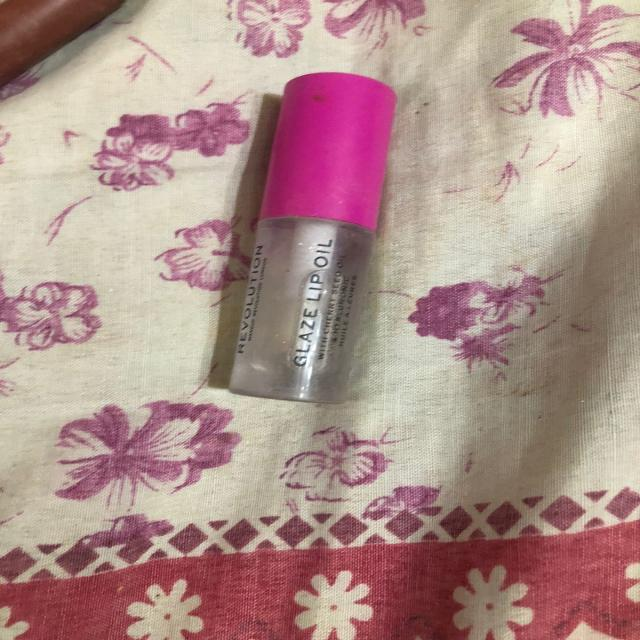Tint: (209, 61, 404, 420)
